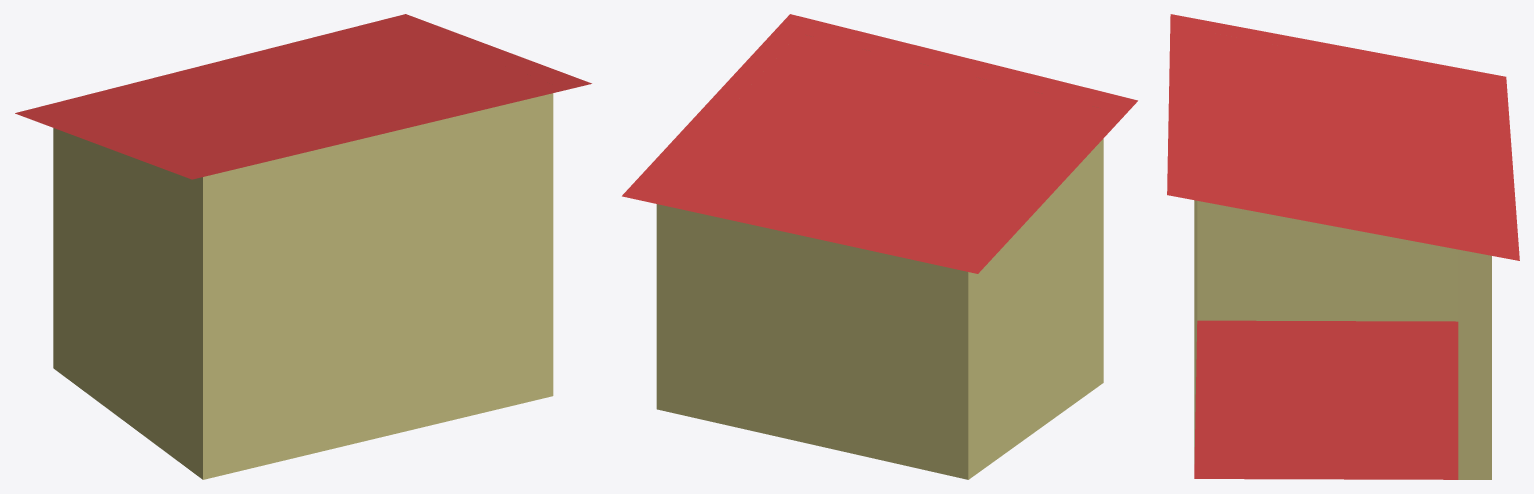
3 views of the same model, side by side, from view 1: azimuth 30°, elevation 25°; view 2: azimuth 150°, elevation 25°; view 3: azimuth 270°, elevation 25° (orthographic). The views are drawn at different scales.
Bounding box in the file's own units: 8.01 × 6.55 × 6.05.
